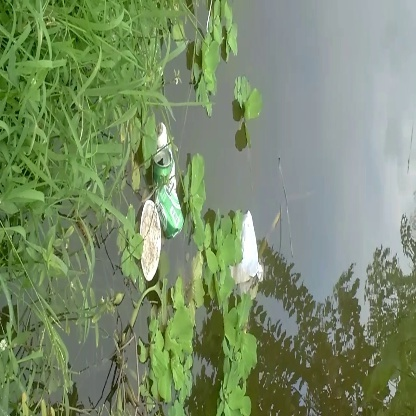bottle: (148, 146, 199, 241)
